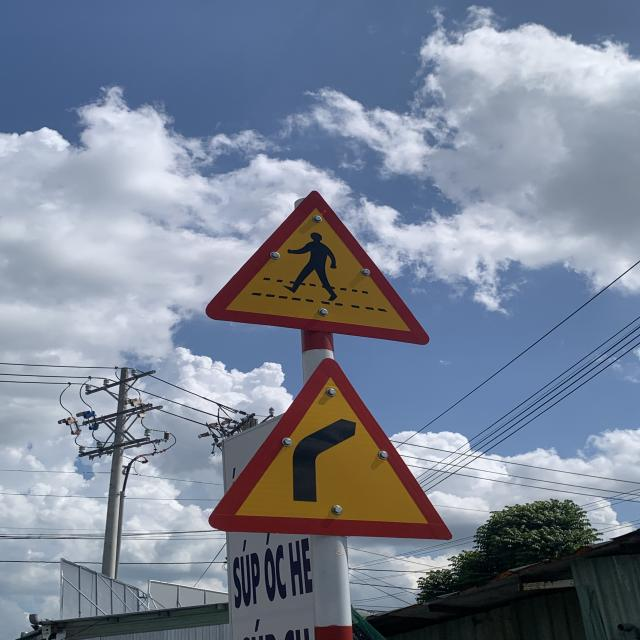Duong_Nguoi_Di_Bo_Cat_Ngang: (210, 358, 455, 542)
Duong_Nguoi_Di_Bo_Sang_Ngang: (205, 188, 431, 346)
